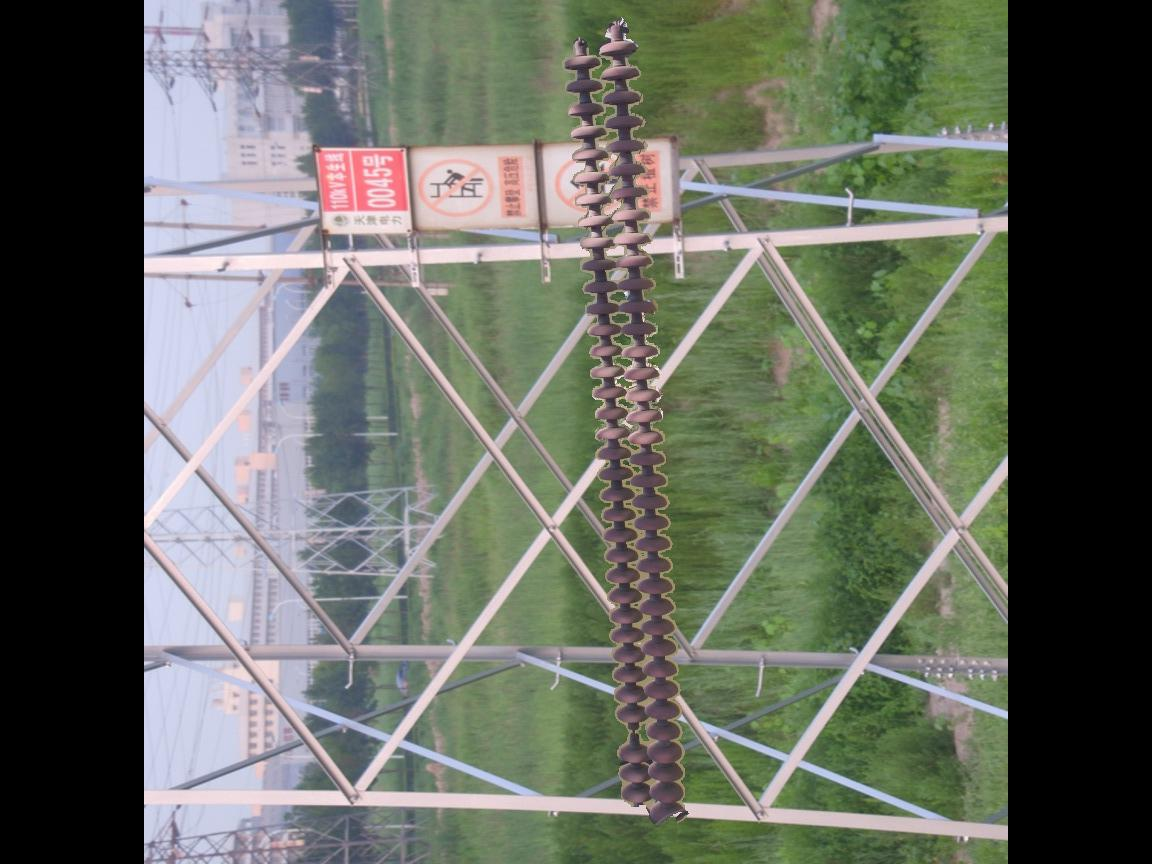insulator: (560, 31, 691, 827)
insulator_stringdrop: (610, 700, 651, 768)
